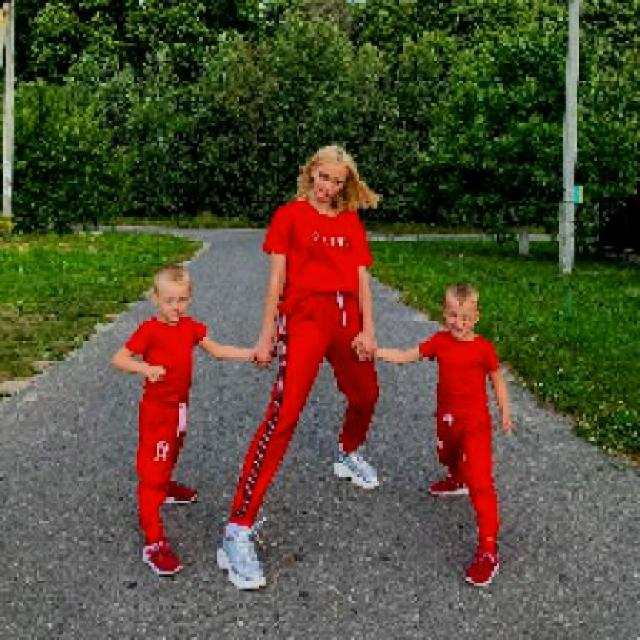child: (356, 280, 516, 586), (112, 264, 255, 576)
